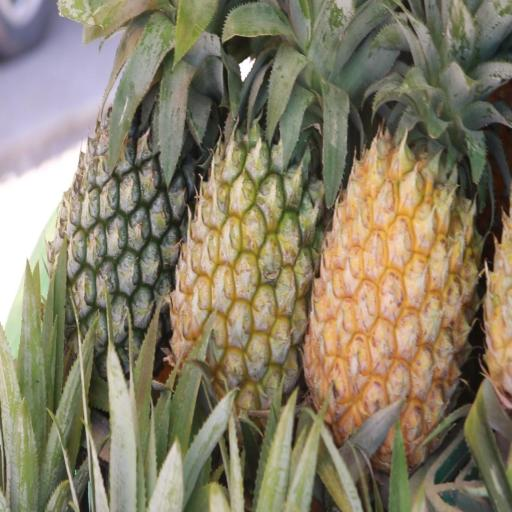------------------------------: (164, 0, 323, 432)
Pineapple - v8 v1: (300, 6, 484, 478)
